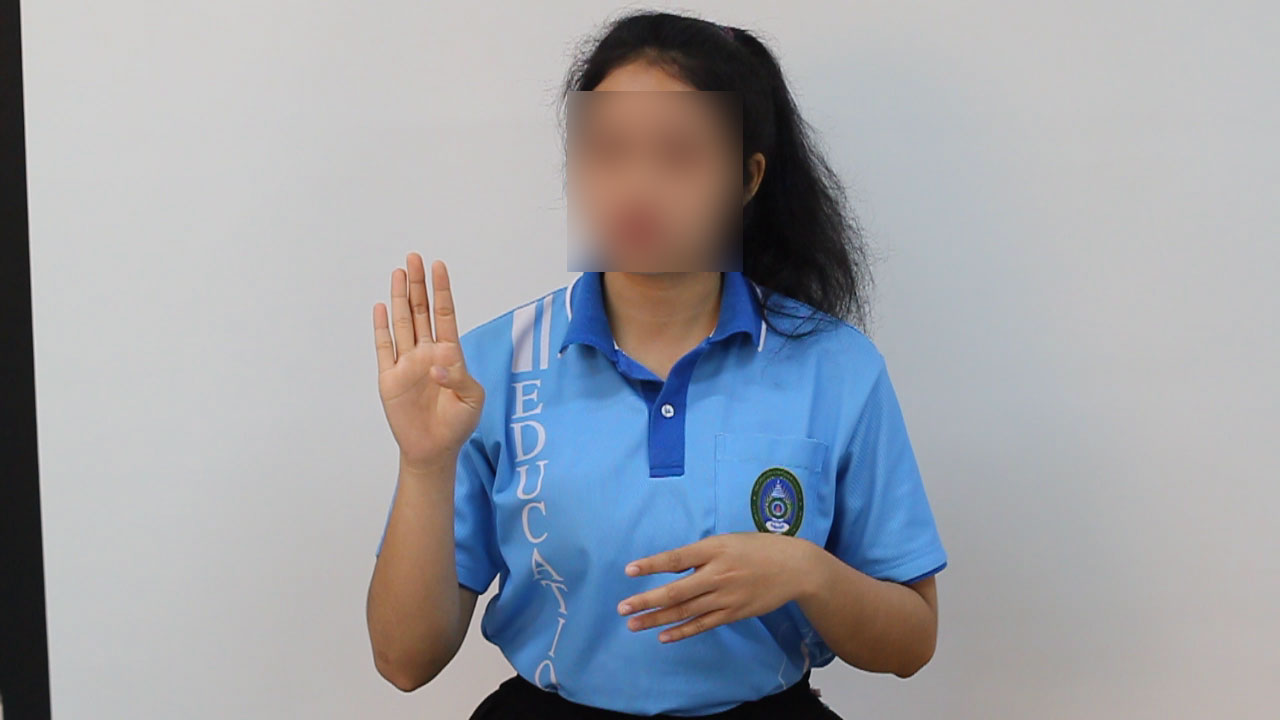bor: (352, 239, 505, 482)
